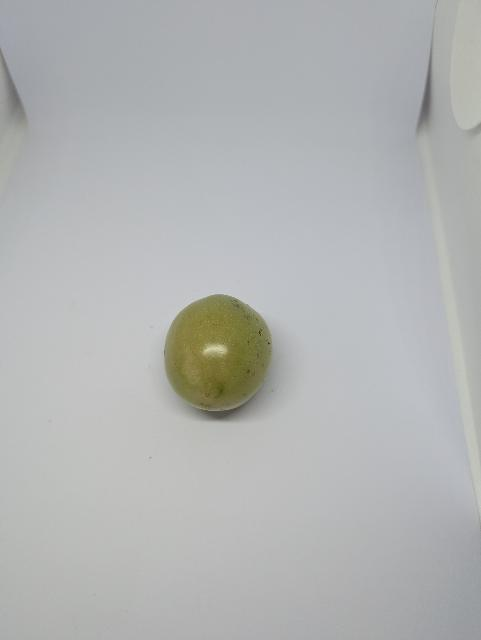green: (157, 292, 274, 422)
